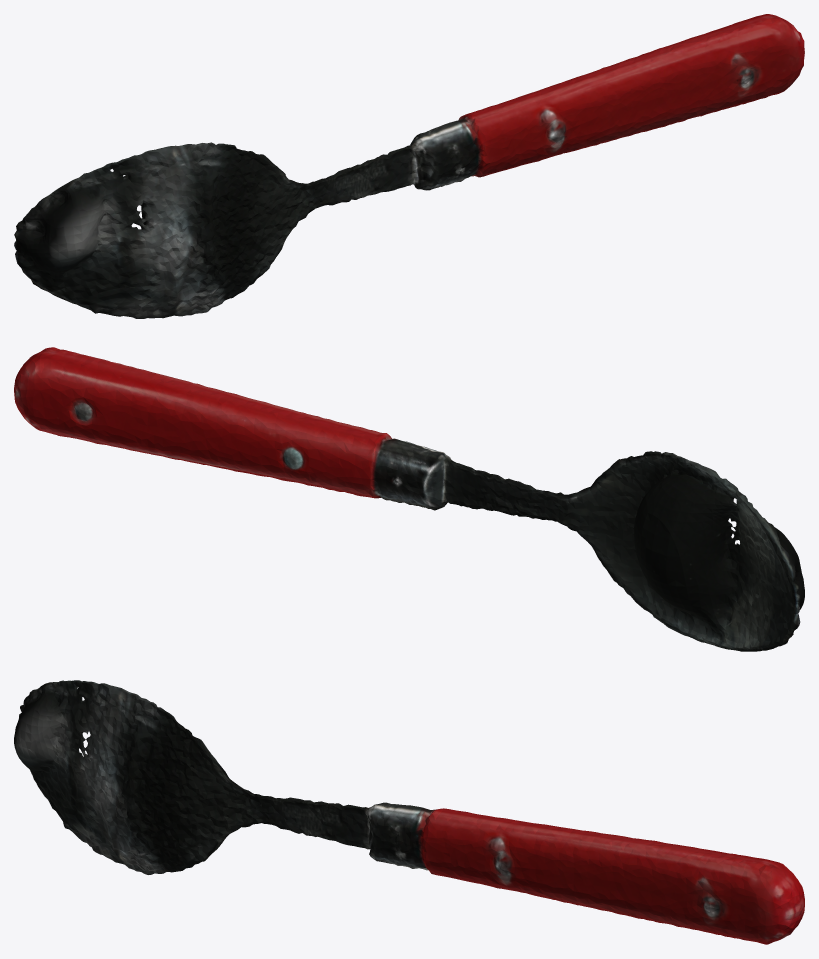
The model's file is spoon.glb.
3 renders of one model, top to bottom at view 1: azimuth 30°, elevation 25°; view 2: azimuth 150°, elevation 25°; view 3: azimuth 330°, elevation 25°, orthographic. The views are drawn at different scales.
Visible parts, largest first — view 1: textured.obj; view 2: textured.obj; view 3: textured.obj.
Boxes of the visible parts, box(x1,y1,x2,y2) form: textured.obj: box(14, 14, 804, 318); textured.obj: box(14, 347, 804, 651); textured.obj: box(14, 680, 804, 944).
Size of the model in its own units: 0.1957 by 0.0415 by 0.0204.
1 material, 1 textured.
